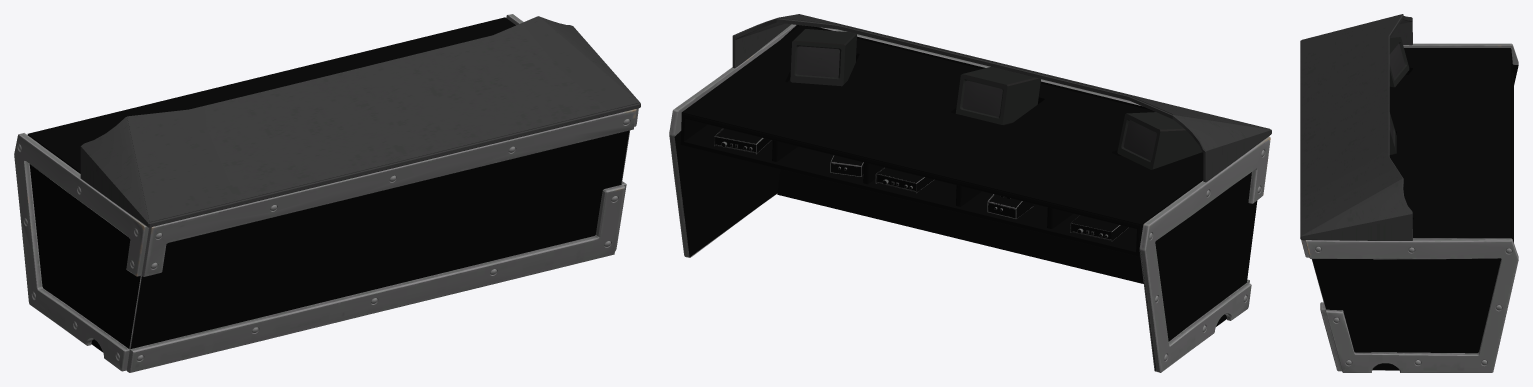
Rendered from wwe2k22_announcer_desk.glb.
The picture shows the model from 3 angles, left to right: view 1: azimuth 30°, elevation 25°; view 2: azimuth 150°, elevation 25°; view 3: azimuth 270°, elevation 25°; orthographic projection. The views are drawn at different scales.
Visible parts, largest first — view 1: Announcer_Table_0, Announcer_Table_Cover_1; view 2: Announcer_Table_0, Announcer_Table_Cover_1; view 3: Announcer_Table_0, Announcer_Table_Cover_1.
Part boxes in pixels (x1=…): Announcer_Table_0: x1=14, y1=14, x2=638, y2=372; Announcer_Table_Cover_1: x1=80, y1=16, x2=640, y2=227; Announcer_Table_0: x1=669, y1=24, x2=1270, y2=372; Announcer_Table_Cover_1: x1=732, y1=14, x2=1271, y2=182; Announcer_Table_0: x1=1301, y1=43, x2=1518, y2=372; Announcer_Table_Cover_1: x1=1300, y1=14, x2=1412, y2=240.
Size of the model in its own units: 3.3 by 1.39 by 1.53.
Materials: 6 (6 with a texture image).
